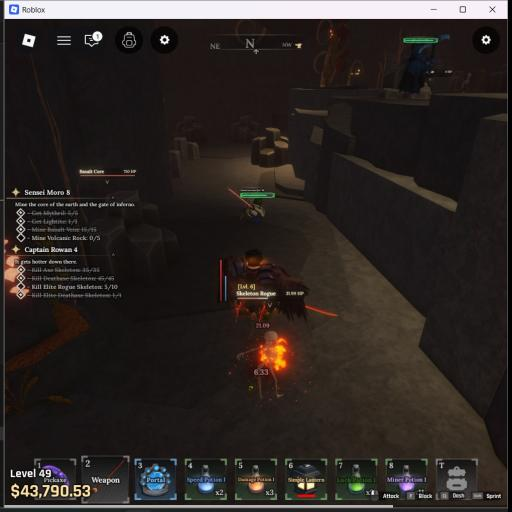player: (228, 250, 308, 301), (240, 296, 307, 319)
rock: (84, 192, 179, 283), (251, 128, 287, 167), (170, 137, 199, 177), (230, 116, 260, 142)
